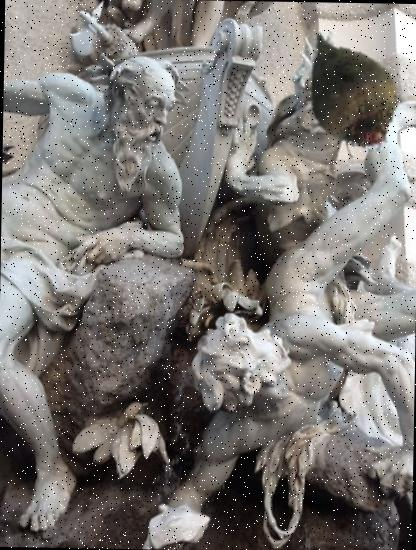Beetroot: (282, 23, 416, 160)
